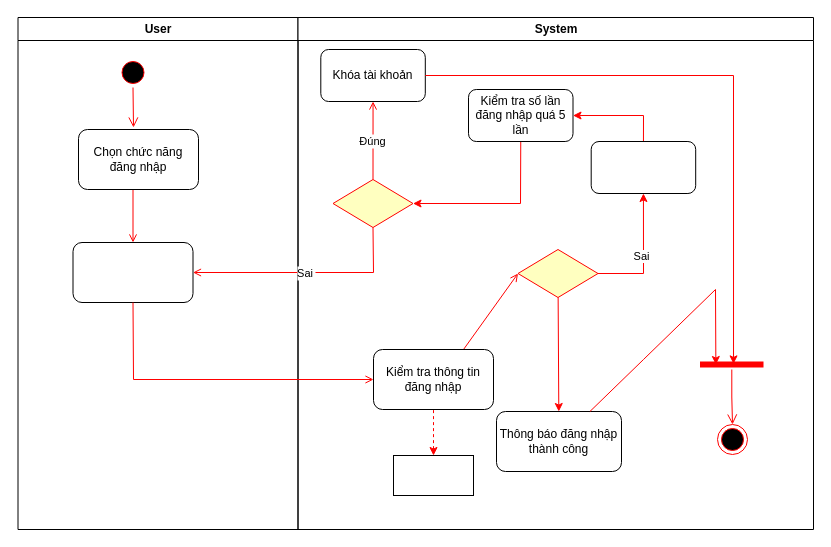
Some shapes in this 831 by 547 pixel diagram are drawn without their labels. Here are the shapes that lost their labels. From the top down, the box of each, then its label:
(590, 140, 696, 194): Thông báo lỗi
(72, 242, 193, 302): Nhập tên đăng nhập, mật khẩu
(392, 454, 474, 496): Tài khoản
